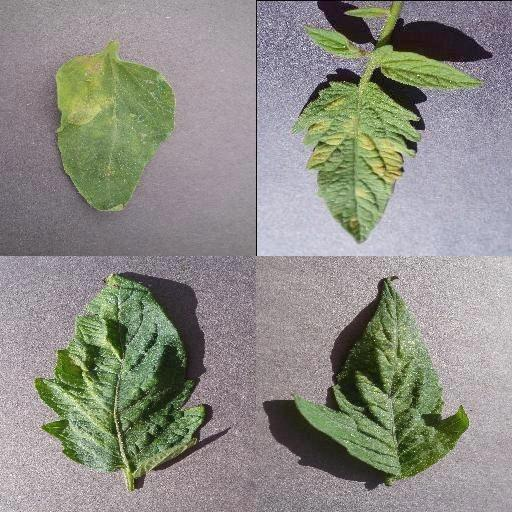Healthy: (378, 45, 481, 90)
Late Blight: (51, 51, 179, 215)
Leaf Mold: (289, 80, 422, 246)
Spider Mites: (296, 274, 468, 478), (36, 273, 206, 477)
